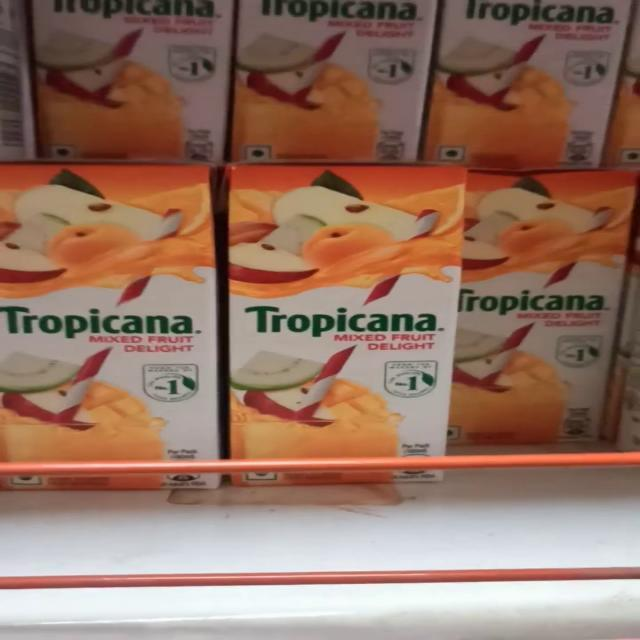Tropicana: (0, 164, 225, 485), (226, 164, 454, 473)
